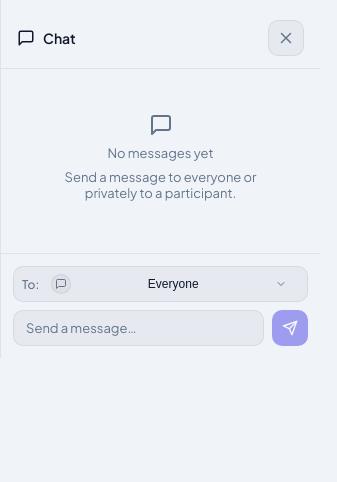
it: ChatPanel › recipient dropdown › lists everyone plus all participants as options
The image size is (337, 482).
Click the button with aria-label "Select message recipient": (173, 284) [47,272,299,296]
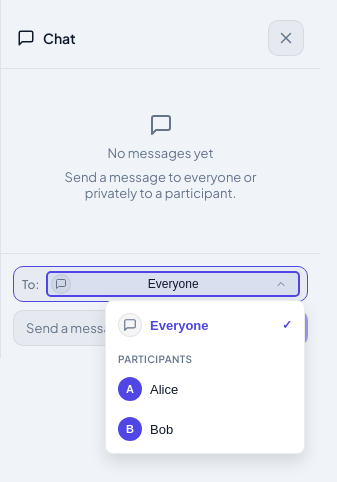
Check: the number of options is 3, box [106,305,304,345]; [106,369,304,409]; [106,409,304,449]
Check: the option "Everyone ✓" is shown, box [106,305,304,345]
